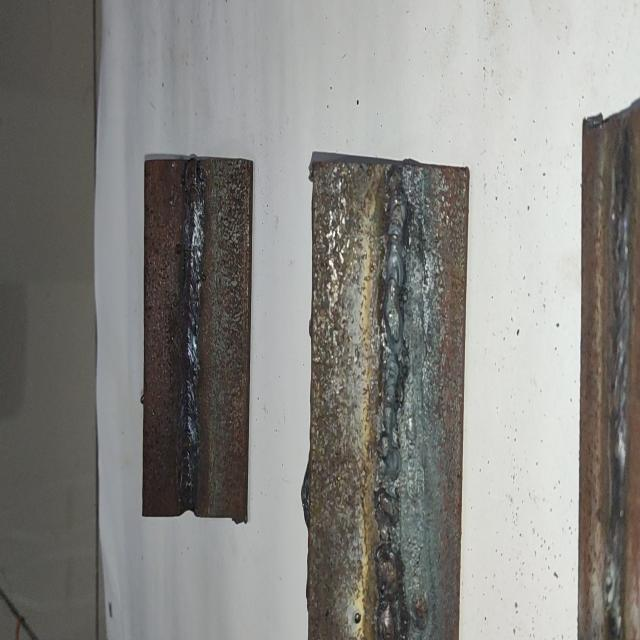Defect: (373, 183, 407, 640)
Welding Line: (378, 167, 430, 640), (608, 124, 632, 640), (180, 165, 206, 510)
Workpiece: (302, 145, 470, 640), (140, 155, 252, 524), (579, 96, 640, 640)
